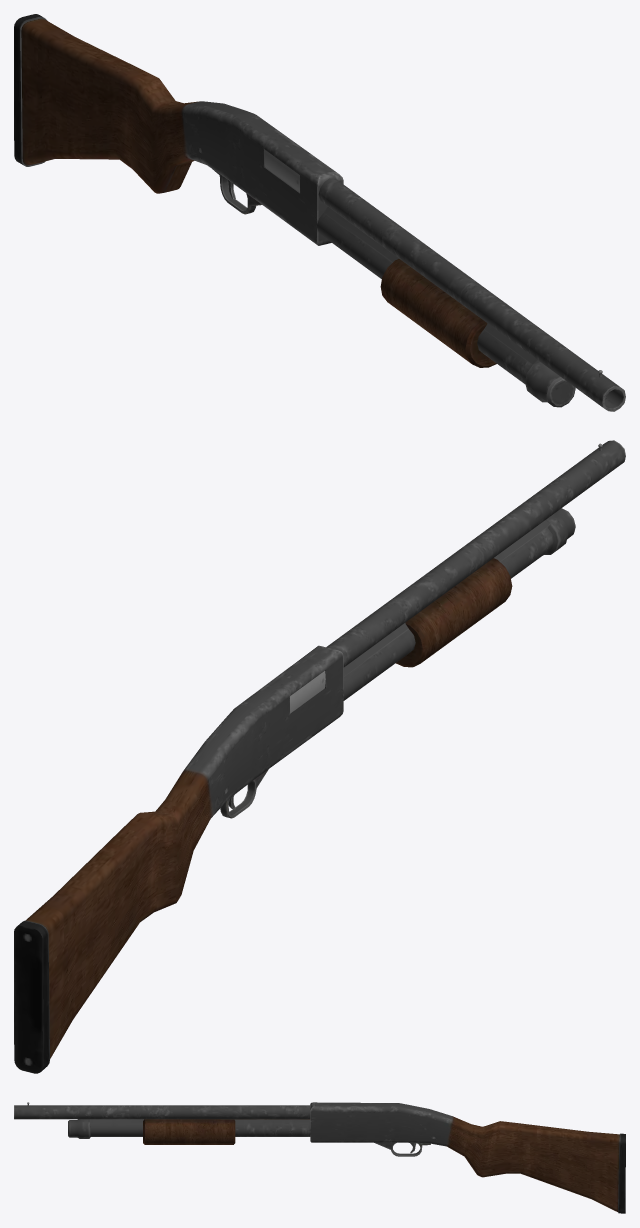
File: shotgun.glb
The picture shows the model from 3 angles, top to bottom: view 1: azimuth 30°, elevation 25°; view 2: azimuth 150°, elevation 25°; view 3: azimuth 270°, elevation 25°; orthographic projection. The views are drawn at different scales.
Parts seen in each view (by area): view 1: shotgun; view 2: shotgun; view 3: shotgun.
Boxes of the visible parts, box(x1,y1,x2,y2) form: shotgun: box(14, 14, 625, 411); shotgun: box(14, 440, 625, 1073); shotgun: box(14, 1102, 625, 1213).
Size of the model in its own units: 0.0352 by 0.1499 by 0.76.
Materials: 1 (1 with a texture image).
